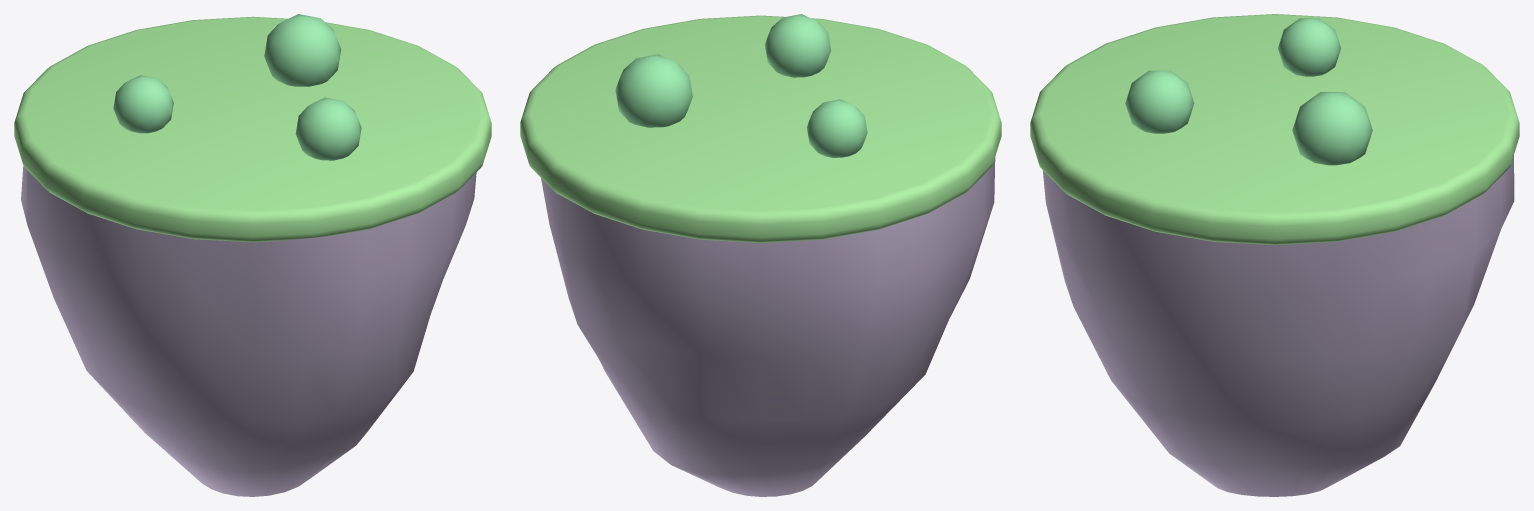
The model's file is island.glb.
The picture shows the model from 3 angles, left to right: view 1: azimuth 30°, elevation 25°; view 2: azimuth 150°, elevation 25°; view 3: azimuth 270°, elevation 25°; orthographic projection. The views are drawn at different scales.
Parts seen in each view (by area): view 1: IslandRock, IslandGrass, IslandBush0, IslandBush2, IslandBush1; view 2: IslandRock, IslandGrass, IslandBush0, IslandBush2, IslandBush1; view 3: IslandRock, IslandGrass, IslandBush0, IslandBush2, IslandBush1.
Part boxes in pixels (x1,y1,x2,y2): IslandRock: (21, 166, 476, 496); IslandGrass: (14, 16, 491, 242); IslandBush0: (264, 14, 341, 86); IslandBush2: (295, 97, 361, 160); IslandBush1: (113, 75, 173, 133); IslandRock: (541, 157, 995, 496); IslandGrass: (520, 15, 1001, 242); IslandBush0: (615, 54, 692, 127); IslandBush2: (764, 14, 831, 77); IslandBush1: (806, 99, 867, 157); IslandRock: (1043, 155, 1514, 496); IslandGrass: (1030, 14, 1519, 245); IslandBush0: (1292, 92, 1372, 165); IslandBush2: (1125, 70, 1194, 133); IslandBush1: (1278, 18, 1340, 76).
Bounding box in the file's own units: 8.5 × 8.44 × 8.5.
